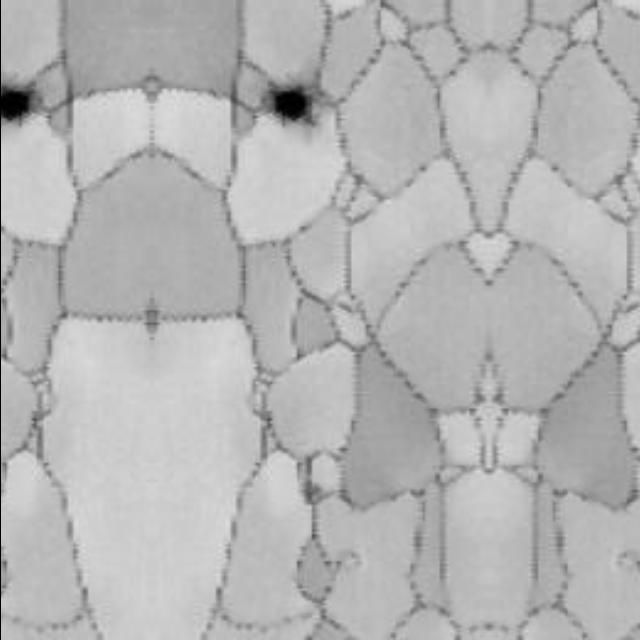good_void: (259, 74, 328, 134), (0, 79, 40, 127)
